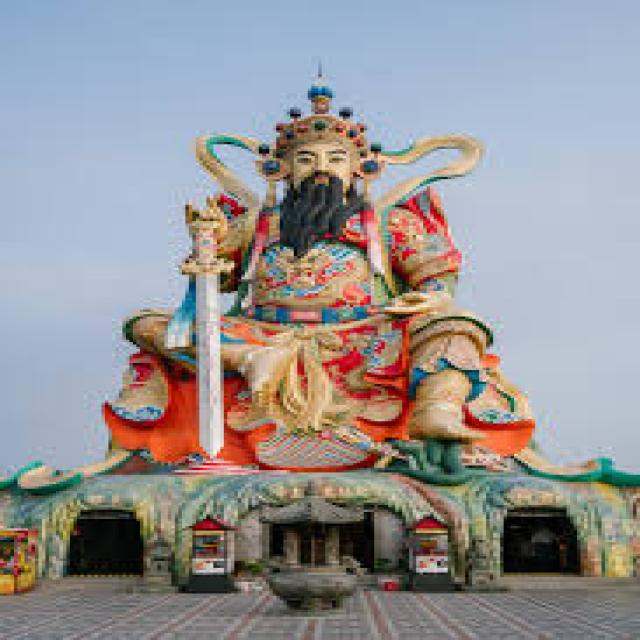Xuan wu: (159, 103, 501, 460)
